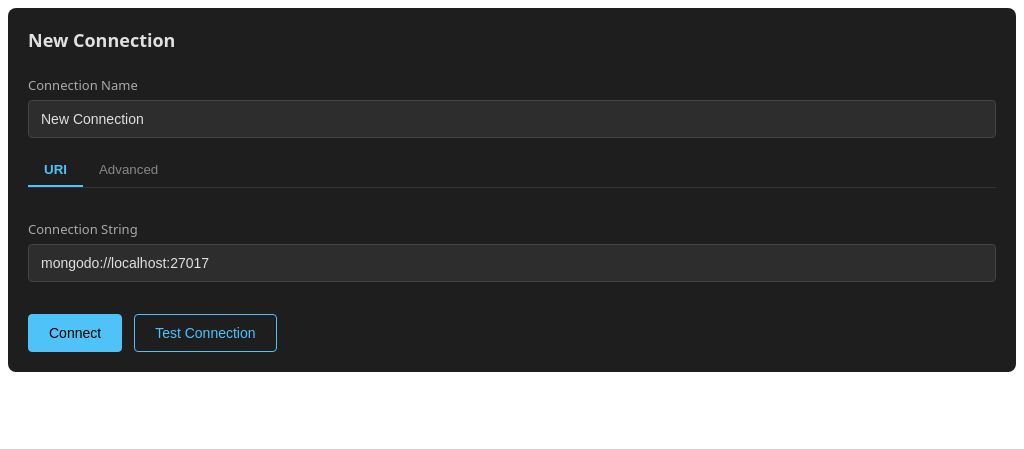
Test: ConnectionForm › test connection › shows error result after failed test
Step 1. Click the button with test id "test-button" → point(205, 333), box [134,314,277,352]
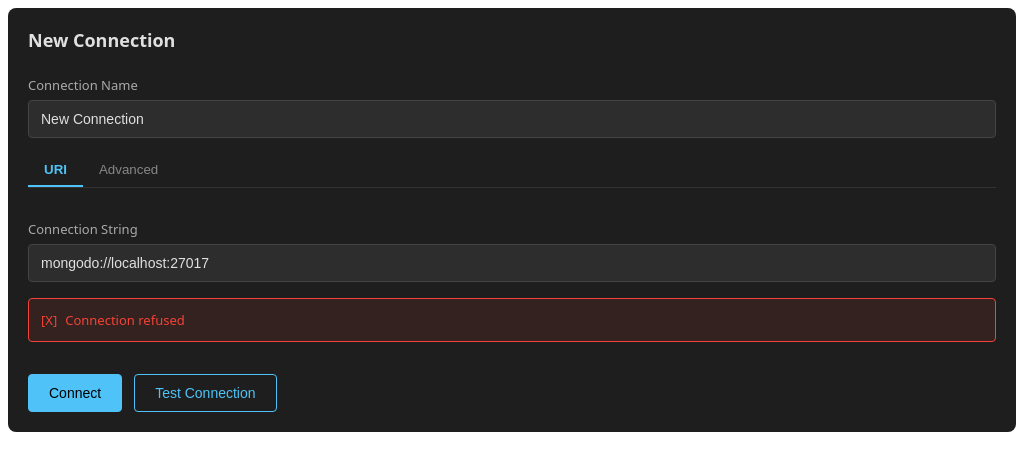
Expected: the element with test id "test-result" is shown, [28,298,996,342]
Expected: the text "Connection refused" is shown, [65,311,185,329]
